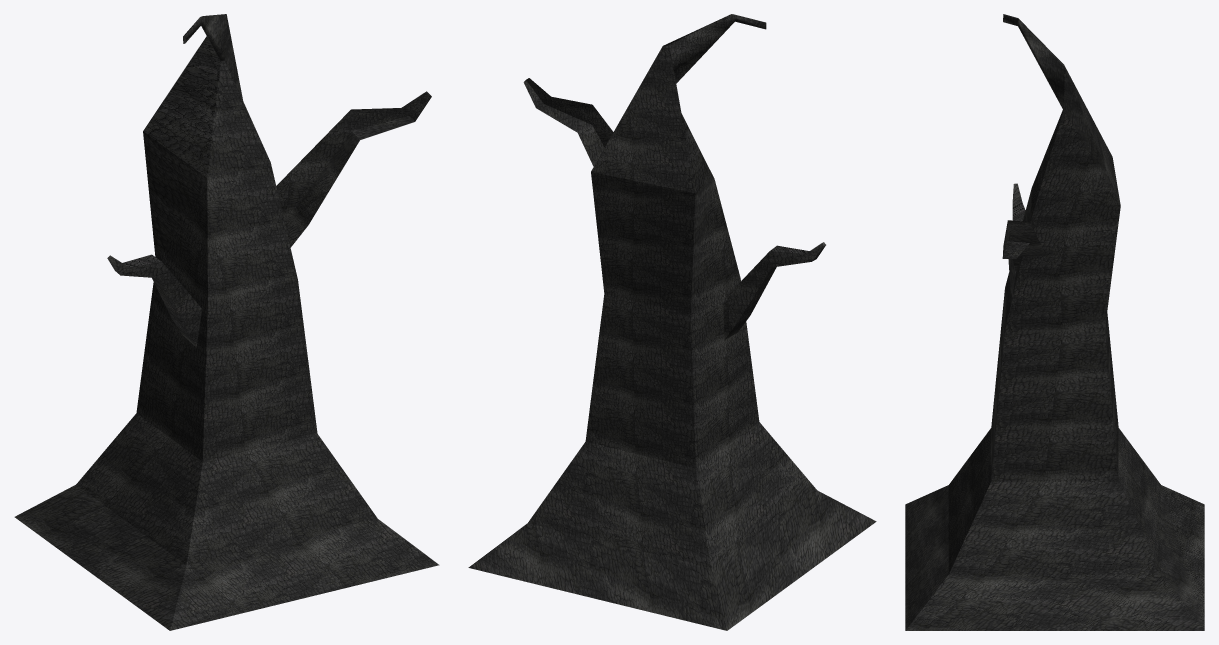
File: burnt tree.fbx
3 renders of one model, left to right at view 1: azimuth 30°, elevation 25°; view 2: azimuth 150°, elevation 25°; view 3: azimuth 270°, elevation 25°, orthographic. The views are drawn at different scales.
Parts seen in each view (by area): view 1: Cube; view 2: Cube; view 3: Cube.
Boxes of the visible parts, x1,y1,x2,y2 form: Cube: [14, 14, 439, 630]; Cube: [468, 14, 876, 630]; Cube: [905, 14, 1204, 630].
Bounding box in the file's own units: 758 × 1252 × 643.
